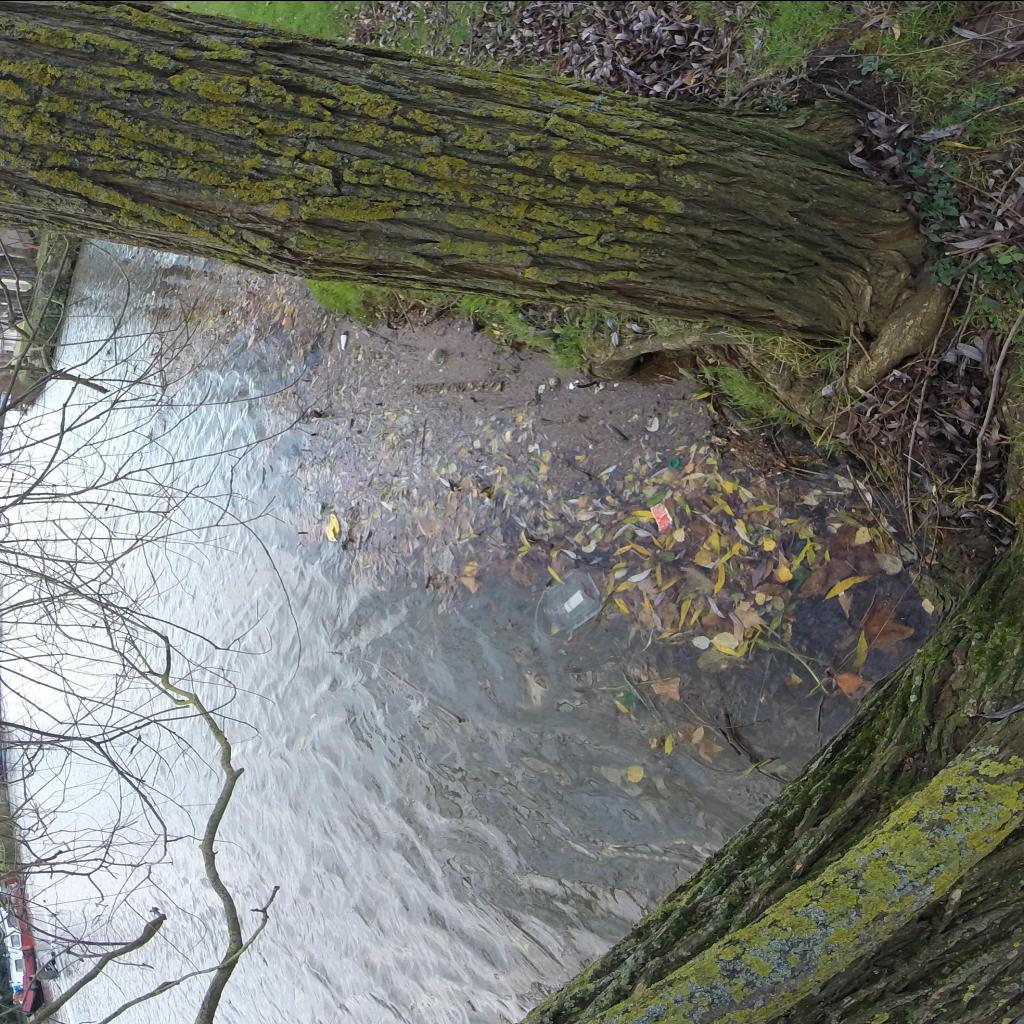Plastic bottle cap: (670, 457, 680, 467)
Tupperware: (540, 566, 600, 632)
Unlabeled litter: (651, 503, 674, 531), (426, 348, 447, 364), (341, 329, 348, 349)
